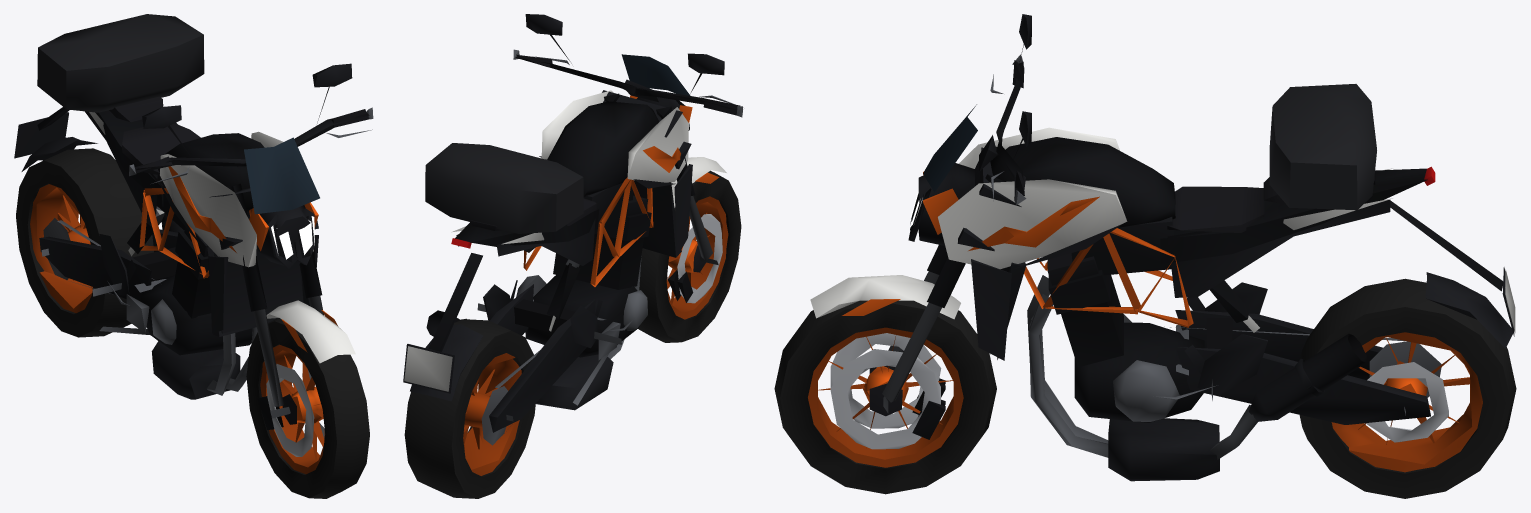
Rendered from bike09_duke890.glb.
3 views of the same model, side by side, from view 1: azimuth 30°, elevation 25°; view 2: azimuth 150°, elevation 25°; view 3: azimuth 270°, elevation 25° (orthographic). The views are drawn at different scales.
Parts seen in each view (by area): view 1: body, wheel_rear, wheel_front, luggage; view 2: body, wheel_rear, luggage, wheel_front; view 3: body, wheel_front, wheel_rear, luggage.
Part boxes in pixels (x1,y1,x2,y2): body: [14, 63, 373, 429]; wheel_rear: [16, 148, 153, 337]; wheel_front: [246, 318, 369, 498]; luggage: [37, 14, 204, 112]; body: [403, 14, 743, 433]; wheel_rear: [404, 319, 535, 498]; luggage: [425, 143, 583, 233]; wheel_front: [638, 170, 741, 342]; body: [810, 14, 1515, 481]; wheel_front: [774, 300, 996, 494]; wheel_rear: [1299, 278, 1516, 498]; luggage: [1269, 84, 1376, 210].
Bounding box in the file's own units: 0.88 × 1.26 × 2.
